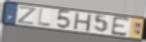5: (55, 9, 73, 31), (94, 14, 110, 35)
E: (111, 16, 132, 38)
H: (73, 11, 94, 32)
L: (37, 8, 52, 28)
Z: (16, 5, 37, 26)
